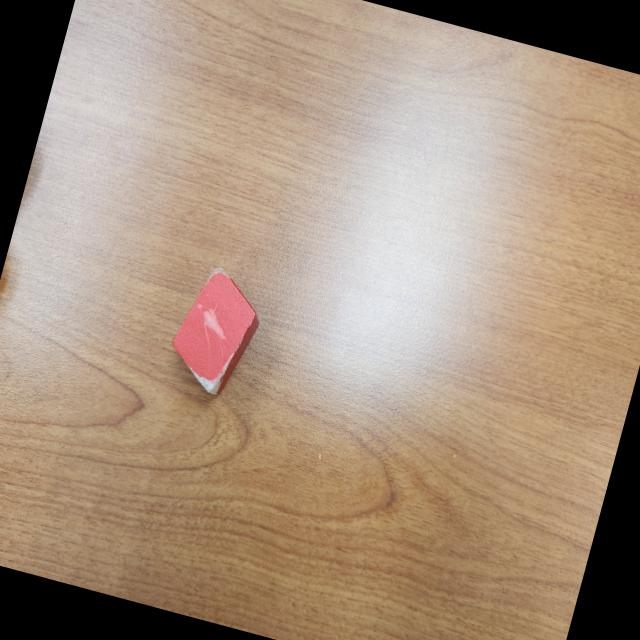broken: (162, 258, 271, 401)
